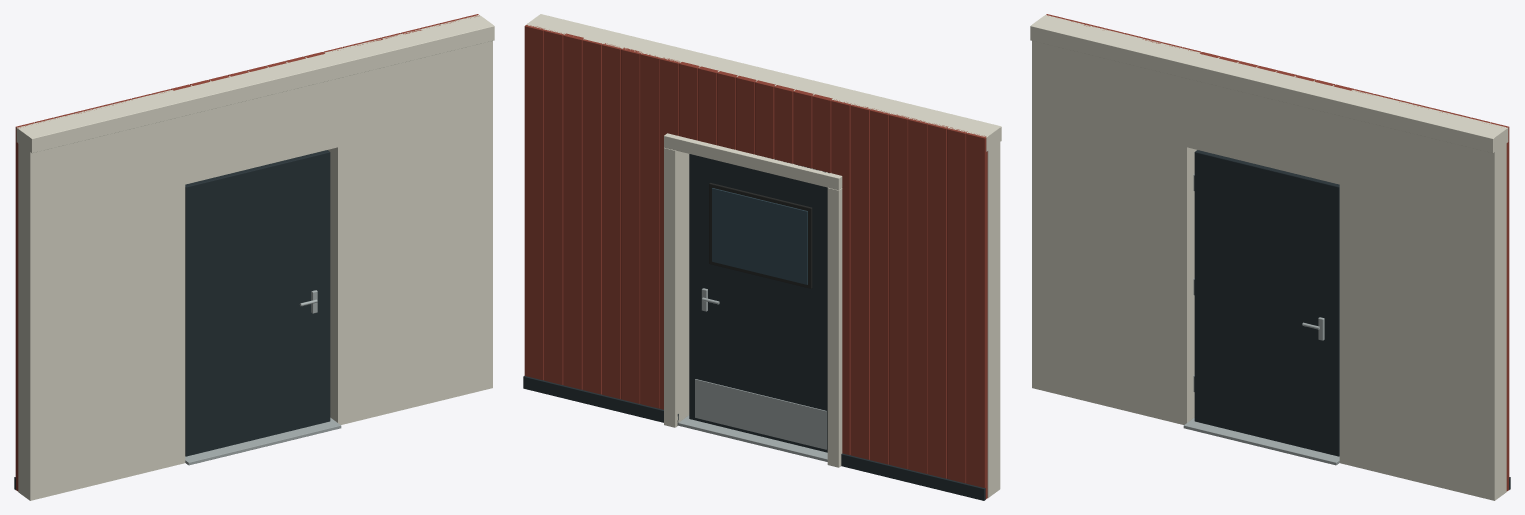
The model's file is workshop_door_4m.glb.
The picture shows the model from 3 angles, left to right: view 1: azimuth 30°, elevation 25°; view 2: azimuth 150°, elevation 25°; view 3: azimuth 330°, elevation 25°; orthographic projection.
Parts seen in each view (by area): view 1: Structure; view 2: Structure; view 3: Structure.
Boxes of the visible parts, x1,y1,x2,y2 form: Structure: [14, 14, 494, 500]; Structure: [523, 14, 1001, 500]; Structure: [1030, 14, 1510, 500].
Bounding box in the file's own units: 4 × 3 × 0.325.
